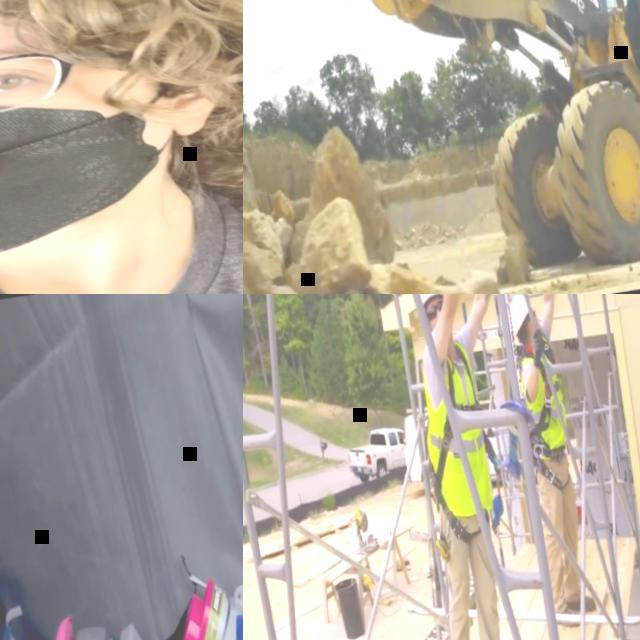helmet: (507, 294, 535, 335), (417, 294, 445, 304)
vest: (414, 339, 493, 522), (514, 338, 570, 462)
